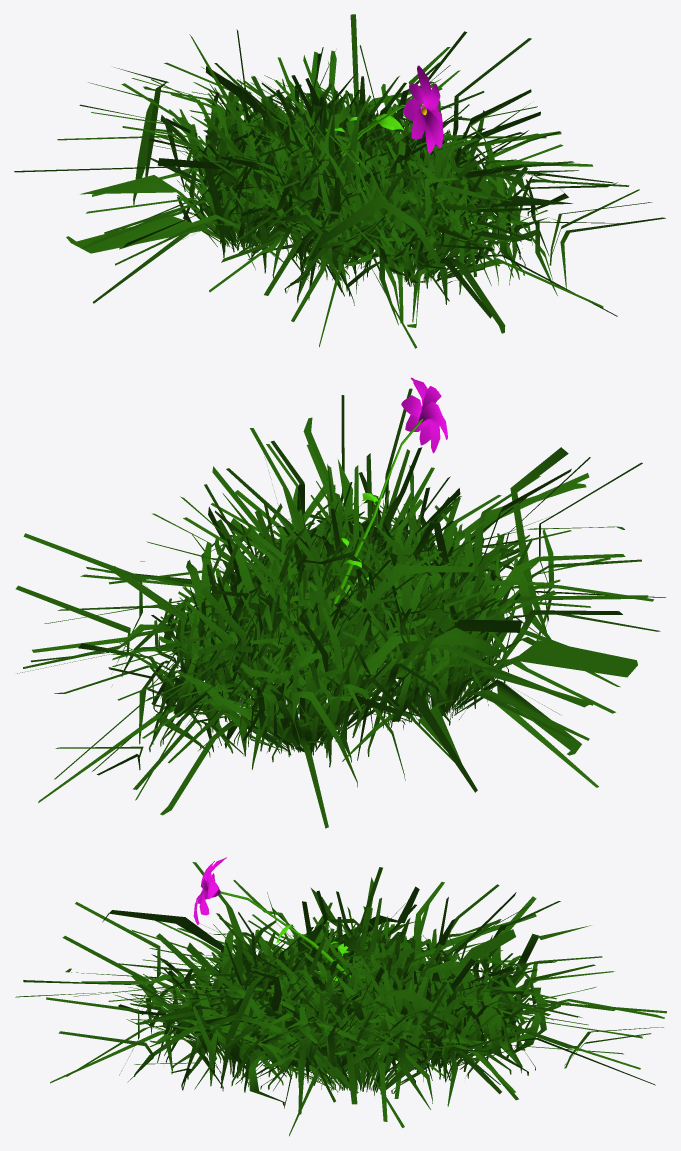
Rendered from Player_Grow.fbx.
3 renders of one model, top to bottom at view 1: azimuth 30°, elevation 25°; view 2: azimuth 150°, elevation 25°; view 3: azimuth 270°, elevation 25°, orthographic. The views are drawn at different scales.
Parts seen in each view (by area): view 1: Player; view 2: Player; view 3: Player.
Boxes of the visible parts, box(x1,y1,x2,y2) form: Player: box(14, 14, 665, 348); Player: box(15, 377, 665, 828); Player: box(15, 857, 666, 1136).
Size of the model in its own units: 33.87 by 16.14 by 45.01.
